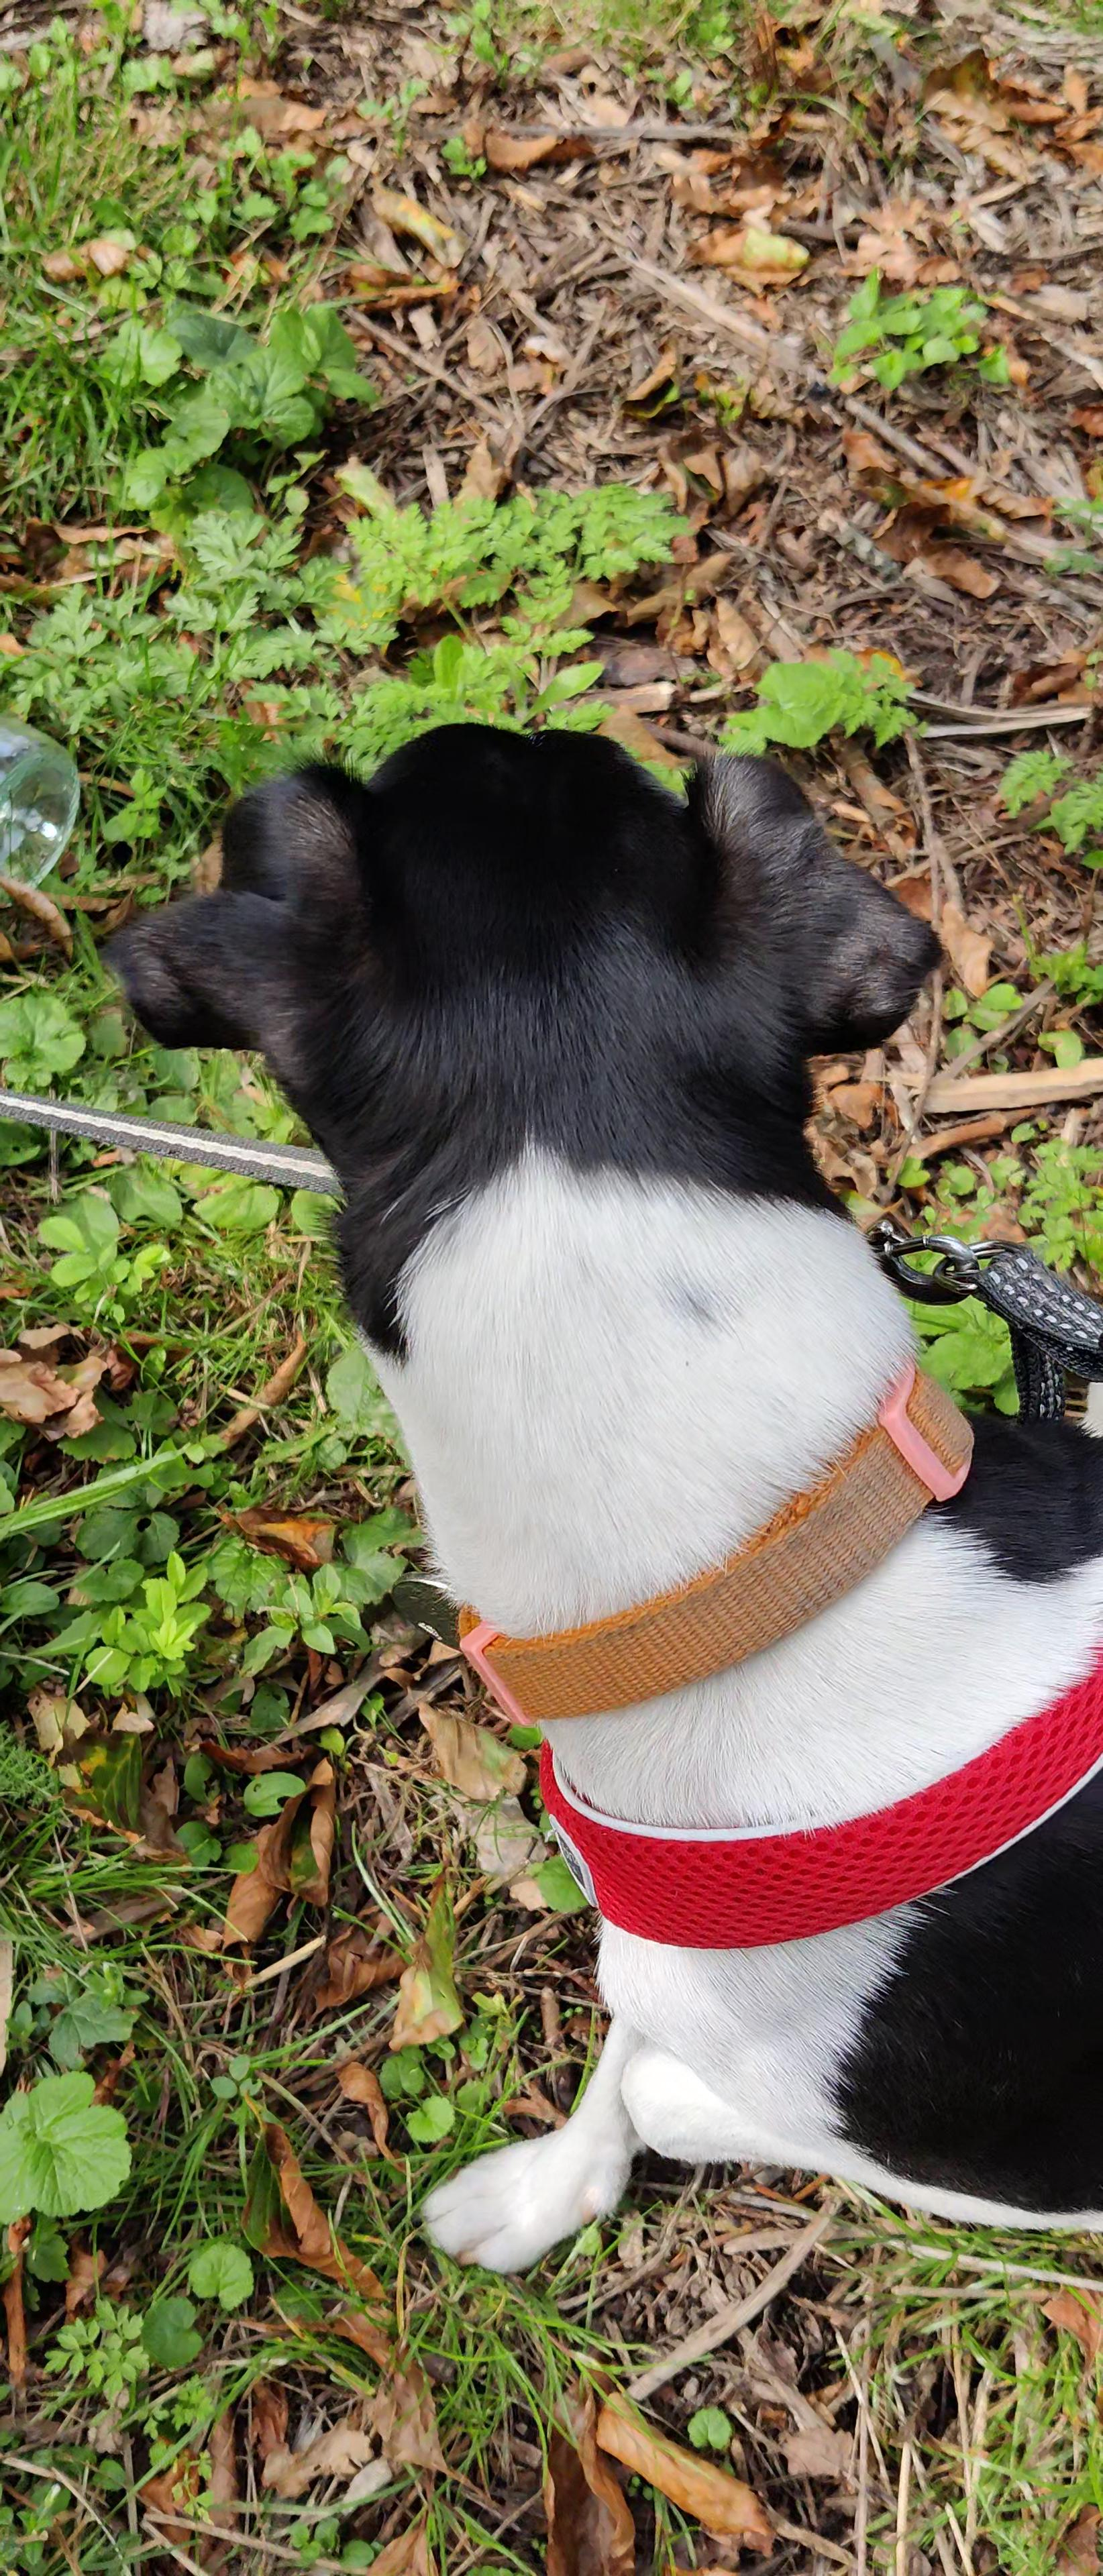Dog: (99, 708, 1103, 2272)
